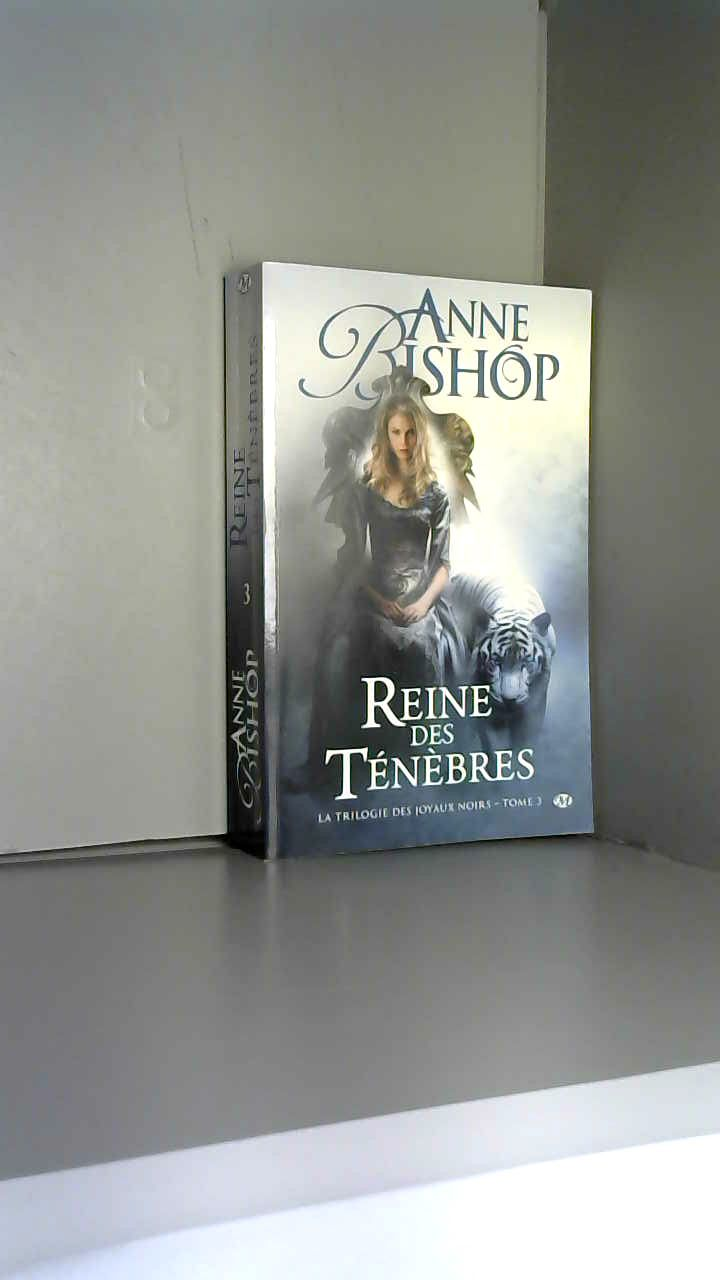book: (190, 230, 718, 876)
